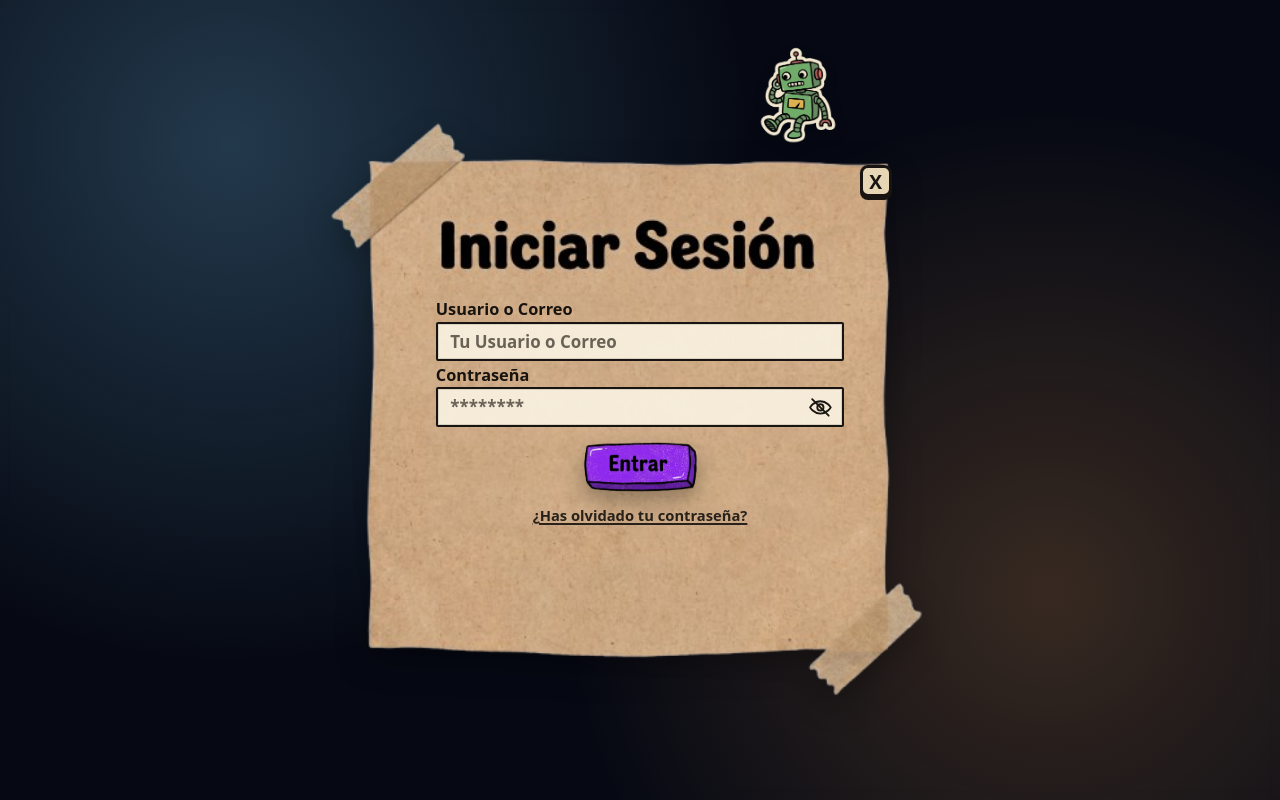
Test case: LoginModal › shows the backend error when login fails
In the field with placeholder "Tu Usuario o Correo": (640, 342) x1=436 y1=322 x2=844 y2=361, type "jugador"
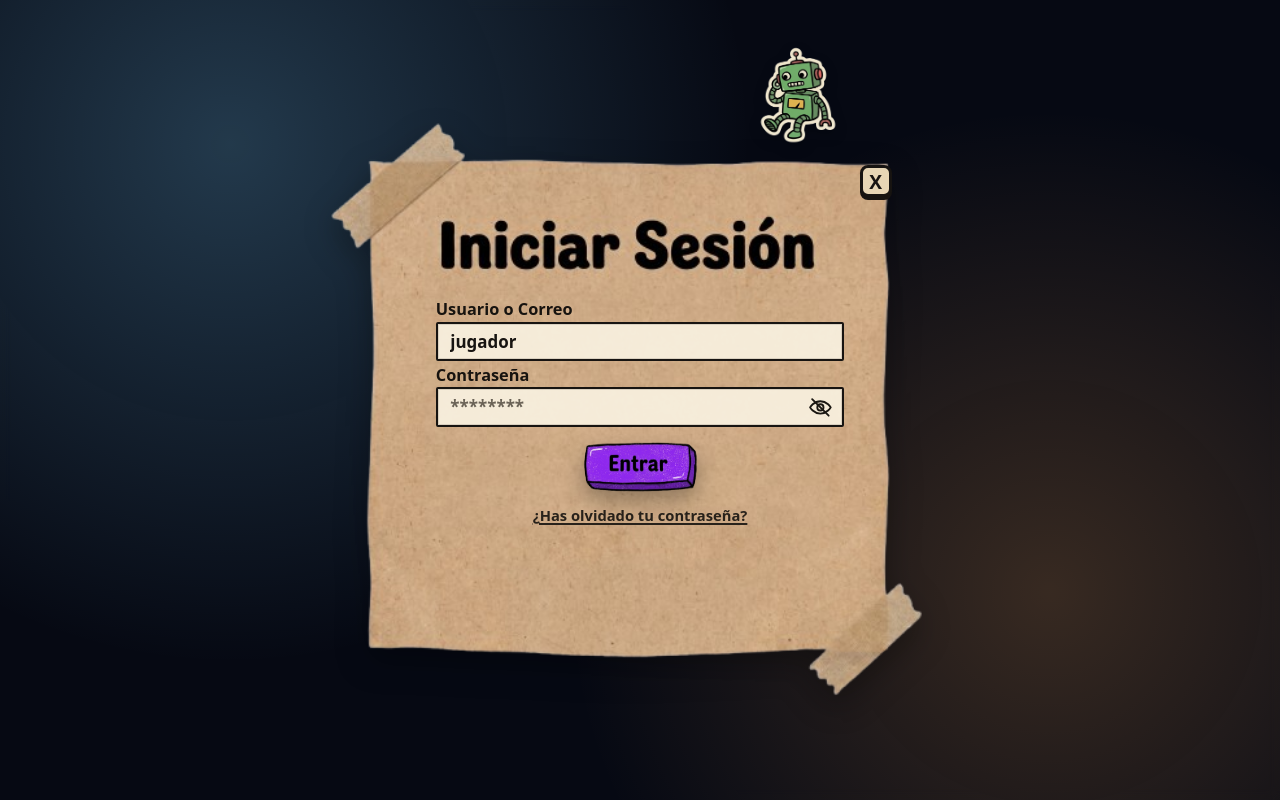
In the password field labelled "Contraseña": (640, 407) x1=436 y1=387 x2=844 y2=427, type "mal"
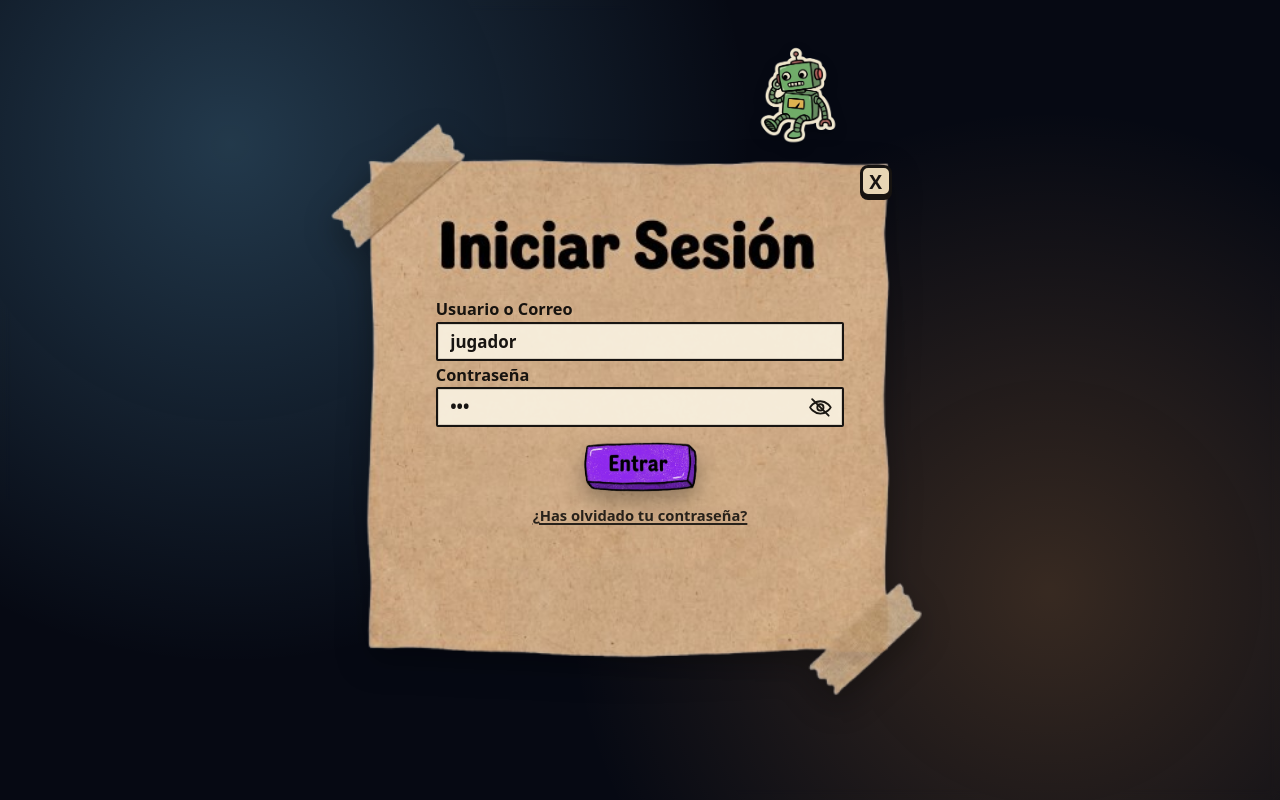
Click the button named "Entrar": (640, 466) x1=562 y1=434 x2=718 y2=498
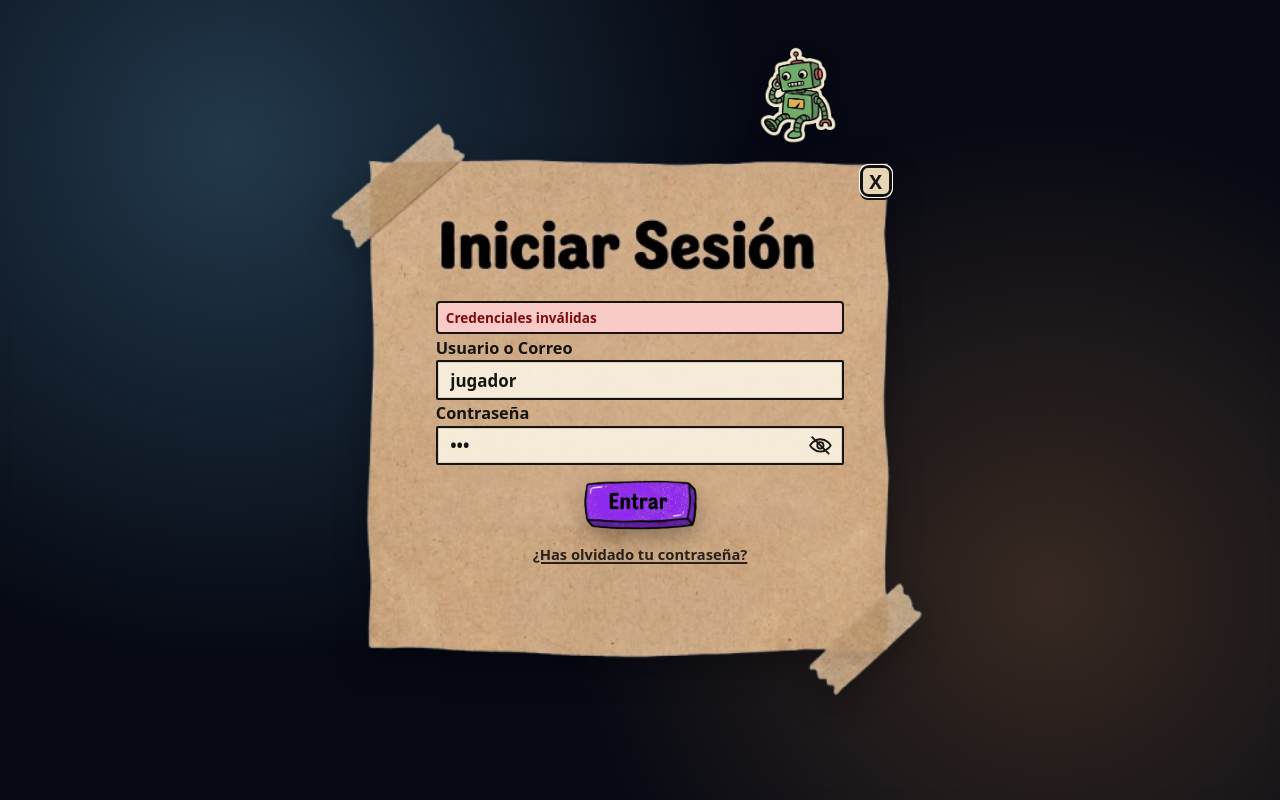
Expected: the text "Credenciales inválidas" is shown, x1=436 y1=301 x2=844 y2=334
